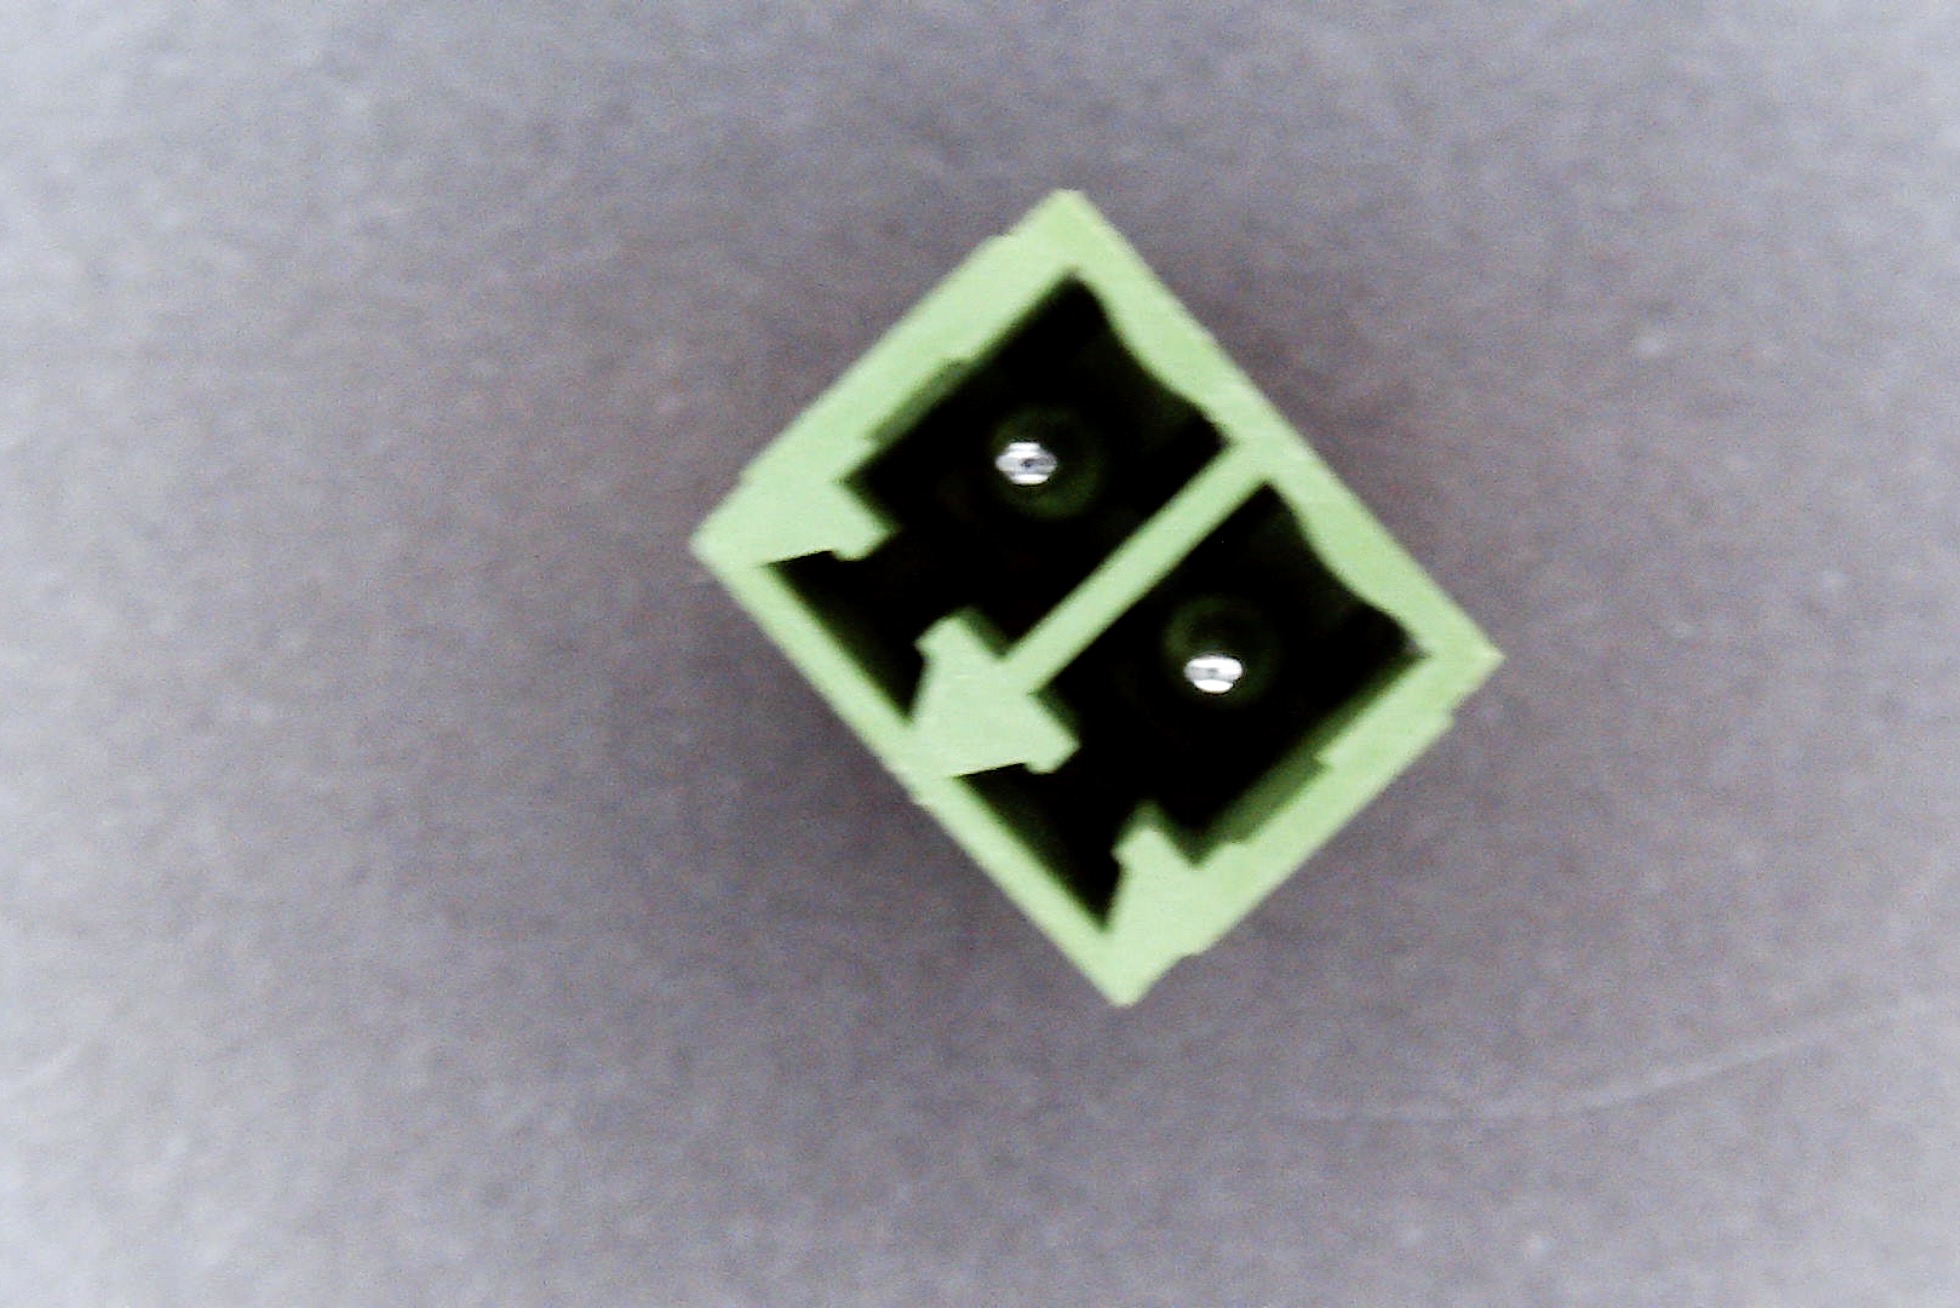bbox: (690, 182, 1508, 1017)
